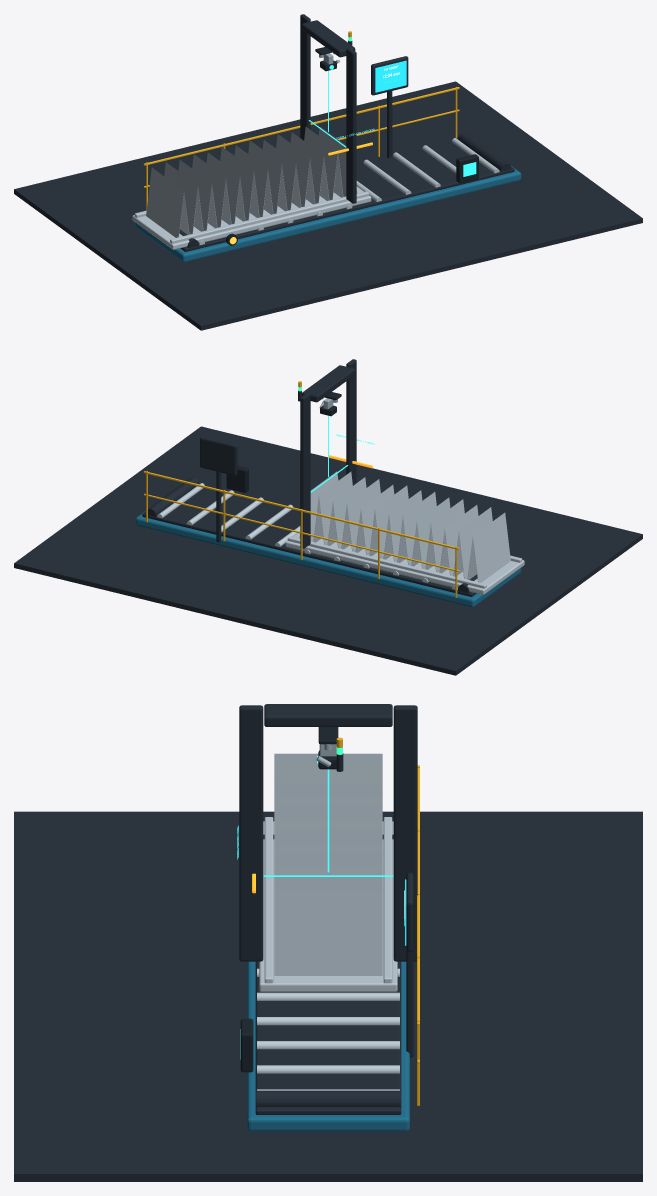
File: laser_triangulation_station.glb
The picture shows the model from 3 angles, top to bottom: view 1: azimuth 30°, elevation 25°; view 2: azimuth 150°, elevation 25°; view 3: azimuth 270°, elevation 25°; orthographic projection. The views are drawn at different scales.
Parts seen in each view (by area): view 1: Factory floor, Moving belt, Conveyor chassis, Radiator pallet, Open folded fin 01, Fixed C-frame post, Fixed C-frame post.001, Open folded fin 06, Open folded fin 04, Open folded fin 10, Front header, Open folded fin 08 (+14 smaller); view 2: Factory floor, Moving belt, Conveyor chassis, Radiator pallet, Open folded fin 01, Fixed C-frame post.001, HMI housing, Fixed C-frame post, Rear header, Open folded fin 06, Open folded fin 12, Open folded fin 04 (+14 smaller); view 3: Factory floor, Moving belt, Open folded fin 13, Fixed C-frame post, Fixed C-frame post.001, Conveyor chassis, Radiator pallet, Fixed measurement crossbeam, End roller.001, Open folded fin 12, Open folded fin 08, Front header (+18 smaller).
Part boxes in pixels (bbox=[...]): Factory floor: bbox=[14, 81, 642, 330]; Moving belt: bbox=[180, 142, 514, 251]; Conveyor chassis: bbox=[135, 166, 521, 262]; Radiator pallet: bbox=[132, 186, 371, 249]; Open folded fin 01: bbox=[146, 167, 189, 237]; Fixed C-frame post: bbox=[346, 47, 356, 203]; Fixed C-frame post.001: bbox=[300, 14, 310, 140]; Open folded fin 06: bbox=[220, 147, 259, 220]; Open folded fin 04: bbox=[192, 154, 231, 227]; Open folded fin 10: bbox=[276, 134, 315, 206]; Front header: bbox=[170, 191, 369, 243]; Open folded fin 08: bbox=[248, 140, 287, 213]; Factory floor: bbox=[14, 426, 642, 675]; Moving belt: bbox=[142, 488, 476, 596]; Conveyor chassis: bbox=[135, 511, 521, 607]; Radiator pallet: bbox=[285, 533, 524, 594]; Open folded fin 01: bbox=[467, 512, 510, 582]; Fixed C-frame post.001: bbox=[300, 392, 310, 548]; HMI housing: bbox=[200, 436, 237, 475]; Fixed C-frame post: bbox=[346, 359, 356, 485]; Rear header: bbox=[287, 536, 486, 588]; Open folded fin 06: bbox=[397, 492, 436, 565]; Open folded fin 12: bbox=[313, 471, 352, 545]; Open folded fin 04: bbox=[425, 499, 464, 572]; Factory floor: bbox=[14, 811, 642, 1181]; Moving belt: bbox=[255, 961, 401, 1114]; Open folded fin 13: bbox=[274, 891, 382, 975]; Fixed C-frame post: bbox=[239, 705, 263, 961]; Fixed C-frame post.001: bbox=[393, 705, 417, 961]; Conveyor chassis: bbox=[247, 961, 409, 1131]; Radiator pallet: bbox=[259, 821, 397, 991]; Fixed measurement crossbeam: bbox=[264, 704, 392, 726]; End roller.001: bbox=[256, 1090, 400, 1107]; Open folded fin 12: bbox=[274, 874, 382, 891]; Open folded fin 08: bbox=[274, 828, 382, 844]; Front header: bbox=[264, 817, 273, 983].
Bounding box in the file's own units: 30 × 11.35 × 22.
